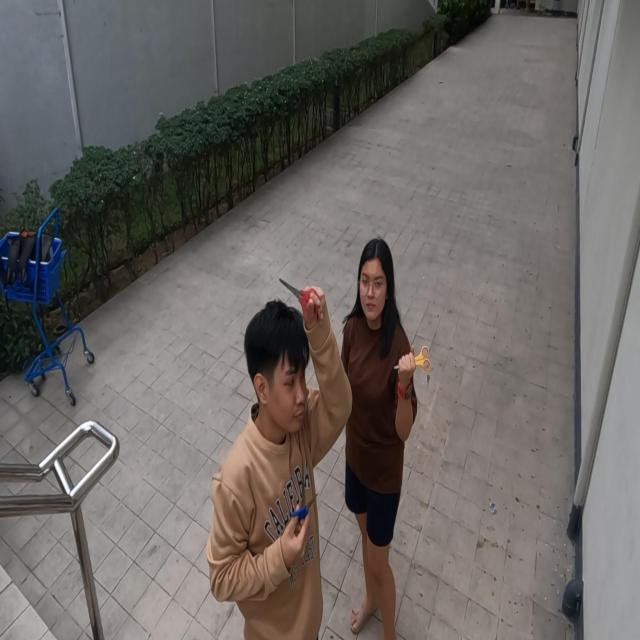scissor: (278, 278, 318, 323), (393, 345, 431, 373)
